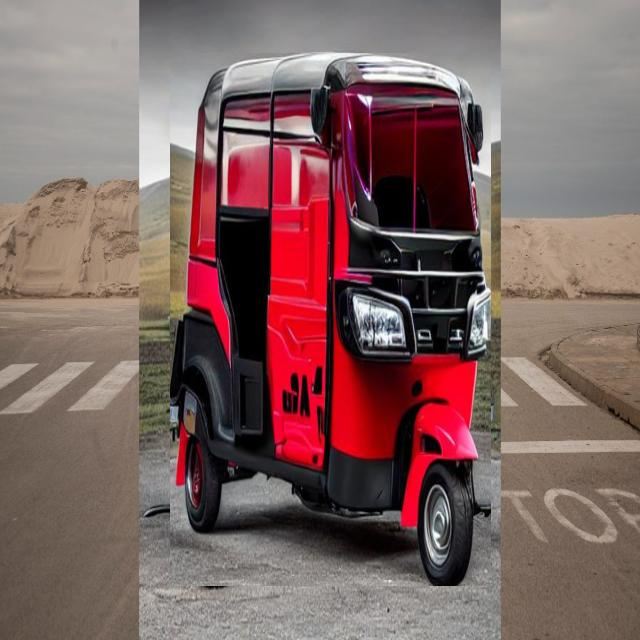autorickshaw: (170, 53, 491, 586)
